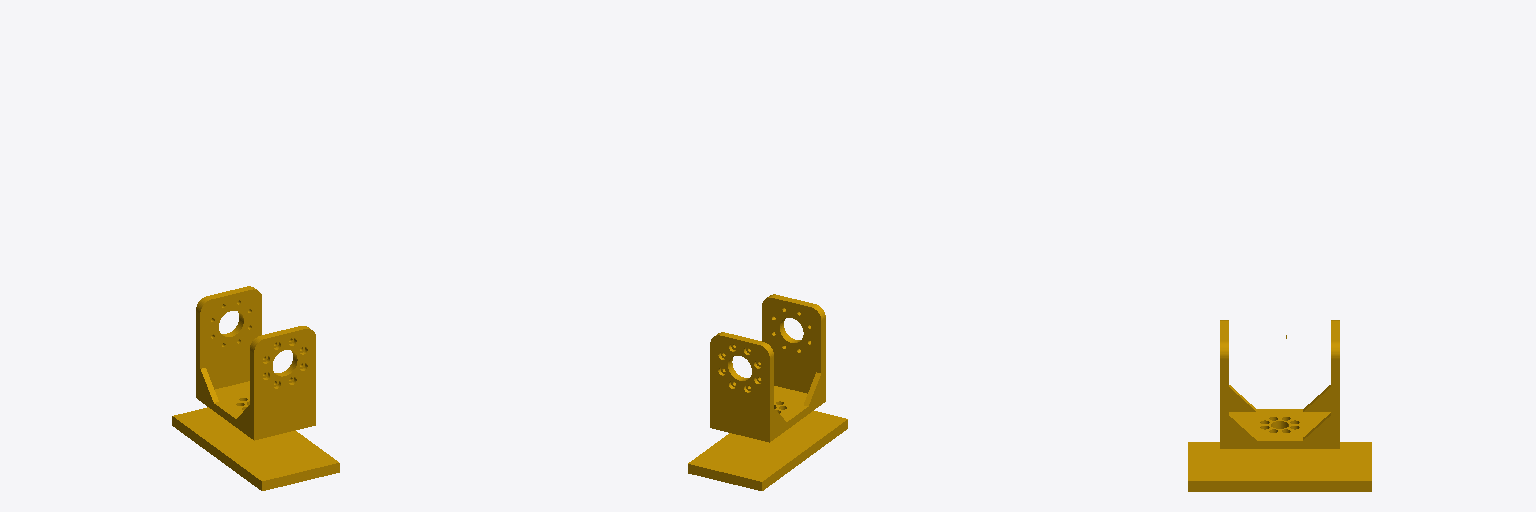
robot.urdf — chad:
<?xml version="1.0"?>

<robot name="chad">

  <!-- ******************************************************** -->
  <!-- ******************* Kinematic Chain ******************** -->
  <!-- ******************************************************** -->
  <!-- Note the 'origin' tag in the joints defines the shift and
       reorientation, i.e. the transform.  For moving joints, this
       happens before the continuous joint rotates around 'axis'. -->

  <!-- World can't take a visual element (at least in Gazebo). -->
  <link name="world"/>

  <!-- Shift 0 -->
  <joint name="placement" type="fixed">
    <parent link="world"/>
    <child  link="baseplate"/>
    <origin xyz="0.046 0.6731 0.00615" rpy="0 0 -1.5708"/>			<!-- DONE -->
  </joint>

  <!-- BASE PLATE: Shift across the base plate to the base motor. --> 
  <link name="baseplate">
    <visual>
      <origin xyz="0.0 0.0 0.0" rpy="0 0 0"/>	<!-- DONE -->
      <geometry>
	<box size="0.2 0.1 0.0123"/>
      </geometry>
      <material name="wood"/>
    </visual>
  </link>

  <!-- Joint 1 -->
  <joint name="baseplate" type="fixed">
    <parent link="baseplate"/>
    <child  link="basemotor"/>
    <origin xyz="0 0 0" rpy="0 0 0"/>
  </joint>

  <!-- BASE MOTOR: Thickness: X5 = 31.1mm, X8 = 45.1mm -->
  <link name="basemotor">
    <visual>
      <origin xyz="0.0 0.0 0.00615" rpy="0 0 -1.5708"/>
      <geometry>
        <mesh filename="package://chad/meshes/X8.stl"
	      scale="0.001 0.001 0.001"/>
      </geometry>
      <material name="hebi"/>
    </visual>
  </link>

  <joint name="base" type="continuous">
    <parent link="basemotor"/>
    <child  link="ubracket"/>
    <origin xyz="0 0 0.0501" rpy="0 0 0"/> 
    <axis   xyz="0 0 1"/>
  </joint>

  <!-- L BRACKET: Shift and rotate across the U bracket. -0.0405 -0.05 0.0501-->
  <link name="ubracket">
    <visual>
      <origin xyz="0 0 0" rpy="-1.5708 0 3.1415"/>
      <geometry>
        <mesh filename="package://chad/meshes/u_bracket.stl"
	      scale="1 1 1"/>
      </geometry>
      <material name="wood"/>
    </visual>
  </link>

  <joint name="ubracket" type="fixed">
    <parent link="ubracket"/>
    <child  link="shouldermotor"/>
    <origin xyz="0.03 0 0.1035" rpy="1.5708 -1.5708 1.5708"/>	  <!-- L BRACKET DIMENIONS 0.05 -0.01 0.1035 WRONG TRANWLRTE HERE-->
  </joint>

  <!-- SHOULDER MOTOR: Thickness: X5 = 31.1mm, X8 = 45.1mm -->
  <link name="shouldermotor">
    <visual>
      <origin xyz="0 0 0" rpy="0 3.1416 3.1416"/>
      <geometry>
        <mesh filename="package://chad/meshes/X5.stl"
	      scale="0.001 0.001 0.001"/>
      </geometry>
      <material name="hebi"/>
    </visual>
  </link>

  <joint name="shoulder" type="continuous">
    <parent link="shouldermotor"/>
    <child  link="lowerarm"/>
    <origin xyz="0 0 -0.0368" rpy="-3.1416 0 0"/> <!-- 0.0 -0.0368 0 -->
    <axis   xyz="0 0 1"/>
  </joint>

  <!-- UPPER ARM: Shift across the upper arm (1/4in thickness) -->
  <link name="lowerarm">
    <visual>
      <origin xyz="0 0 0" rpy="-1.5708 0 0"/>
      <geometry>
        <mesh filename="package://chad/meshes/link.stl"
	      scale="0.01 0.01 0.01"/>	      
      </geometry>
      <material name="wood"/>
    </visual>
    <!-- Add a visual element -->
  </link>


  <joint name="lowerarm" type="fixed">
    <parent link="lowerarm"/>
    <child  link="elbowmotor"/>
    <origin xyz="0.38 0 -0.0367" rpy="0 0 0"/>		  <!-- UPPER ARM DIMENIONS -->
  </joint>

  <!-- Elbow motor.  Thickness: X5 = 31.1mm, X8 = 45.1mm -->
  <link name="elbowmotor">
    <visual>
      <geometry>
        <mesh filename="package://chad/meshes/X5.stl"
	      scale="0.001 0.001 0.001"/>
      </geometry>
      <material name="hebi"/>
    </visual>
  </link>

  <joint name="elbow" type="continuous">
    <parent link="elbowmotor"/>
    <child  link="upperarm"/>
    <origin xyz="0 0 0" rpy="0 0 0"/>
    <axis   xyz="0 0 -1"/>
  </joint>

  <!-- Shift across the upper arm (1/4in thickness) -->
  <link name="upperarm">
    <visual>
      <origin xyz="0 0 0" rpy="-1.5708 0.0 0.0"/>
      <geometry>
        <mesh filename="package://chad/meshes/link.stl"
	      scale="0.001 0.001 0.001"/>	
      </geometry>
      <material name="wood"/>
    </visual>
  </link>

  <joint name="upperarm" type="fixed">
    <parent link="upperarm"/>
    <child  link="tip"/>
    <origin xyz="0.38 0.0 0" rpy="0 0 0"/>		  <!-- UPPER ARM DIMENIONS 0.0420 0.0367-->
  </joint>

  <!-- TIP FRAME -->
  <link name="tip"/>

  
  <!-- *************************************************** -->
  <!-- *************** Visual Link Elements ************** -->
  <!-- *************************************************** -->
  <!-- Note collada .dae files are preferred over .stl as  -->
  <!-- they specify and provide color/texture support.     -->

  <!-- Colors -->
  <material name="wood">  <color rgba="0.82 0.62 0.04 1"/>  </material>
  <material name="hebi">  <color rgba="0.82 0.06 0.06 1"/>  </material>

</robot>

--- Facts derived from the render (not from the file) ---
3 views of the same robot in one strip: view 1: azimuth 30°, elevation 25°; view 2: azimuth 150°, elevation 25°; view 3: azimuth 270°, elevation 25° (orthographic).
Model chad with 9 links and 8 joints (3 continuous, 5 fixed), rooted at world, posed every joint at zero.
Visible links, largest first — view 1: ubracket, baseplate; view 2: ubracket, baseplate; view 3: baseplate, ubracket.
Link boxes in pixels (box(x1,y1,x2,y2)): ubracket: box(196, 286, 315, 440); baseplate: box(172, 407, 339, 490); ubracket: box(710, 294, 825, 442); baseplate: box(688, 411, 847, 490); baseplate: box(1188, 442, 1371, 491); ubracket: box(1220, 320, 1339, 448).
Bounding box of the posed robot: 0.1 × 0.2 × 0.5402 m (x, y, z).
Meshes: 4 distinct files referenced, 3 mesh visuals loaded (2 binary STL); not drawn: 3 (reference not matched to a file when rendering).
